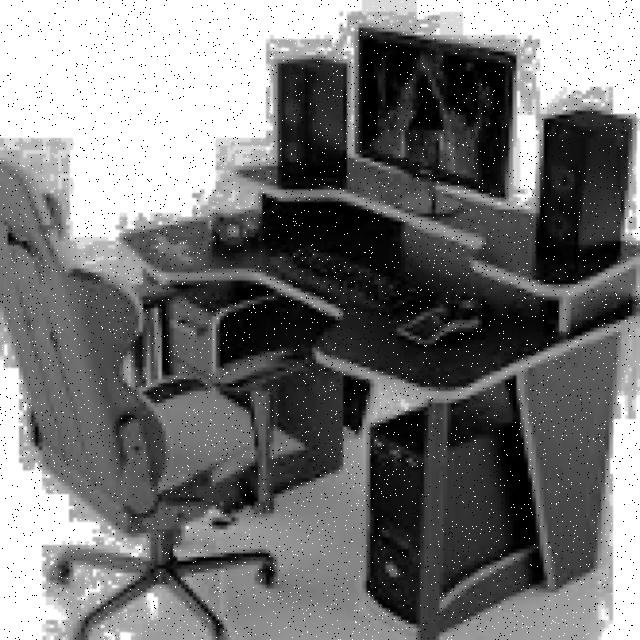book: (0, 154, 332, 640)
table: (119, 162, 640, 640)
